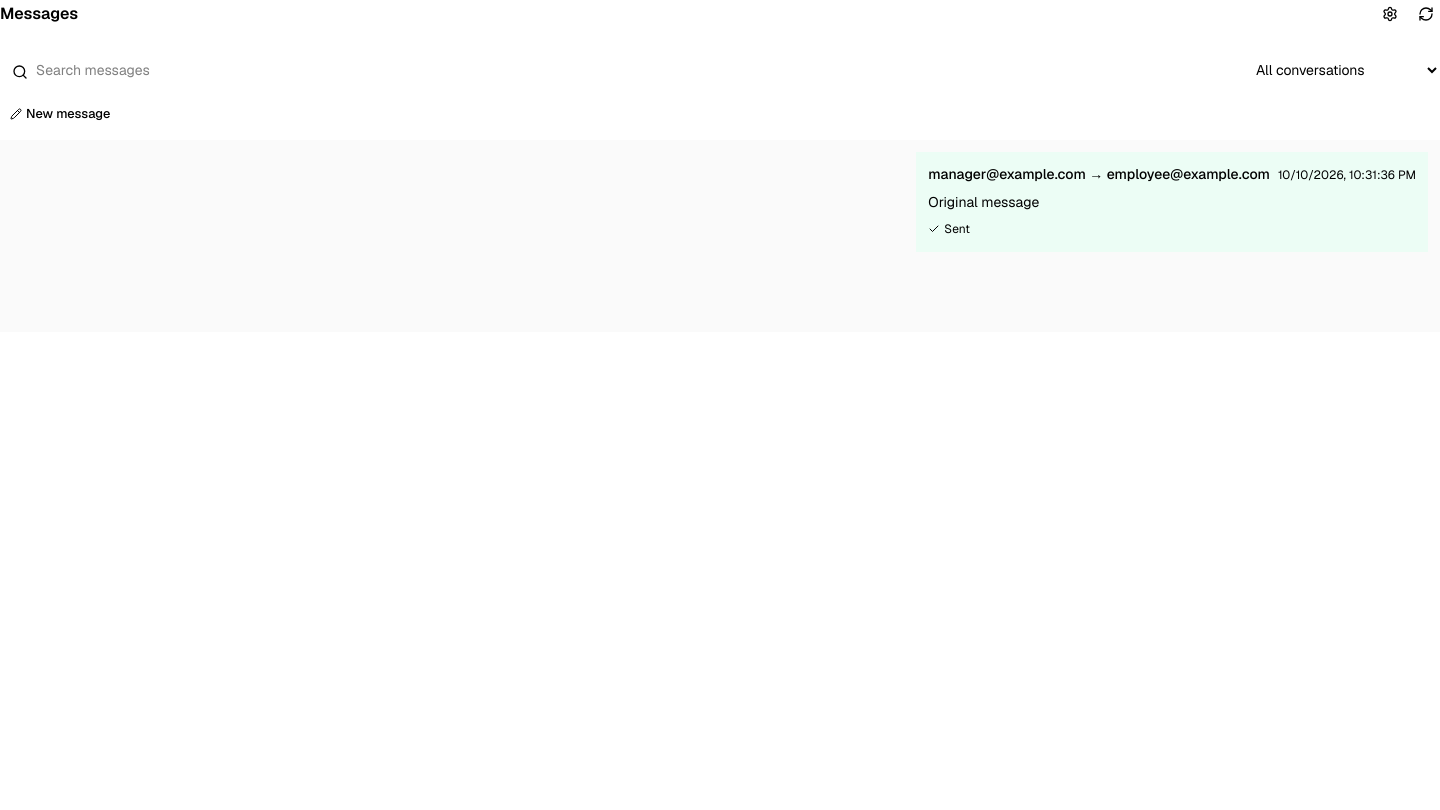
Test: keeps encryption controls out of the everyday inbox
Expected: the text "End-to-end encryption connected" is not shown
Click the button named "Message settings" at (1390, 14), box [1376,0,1404,28]
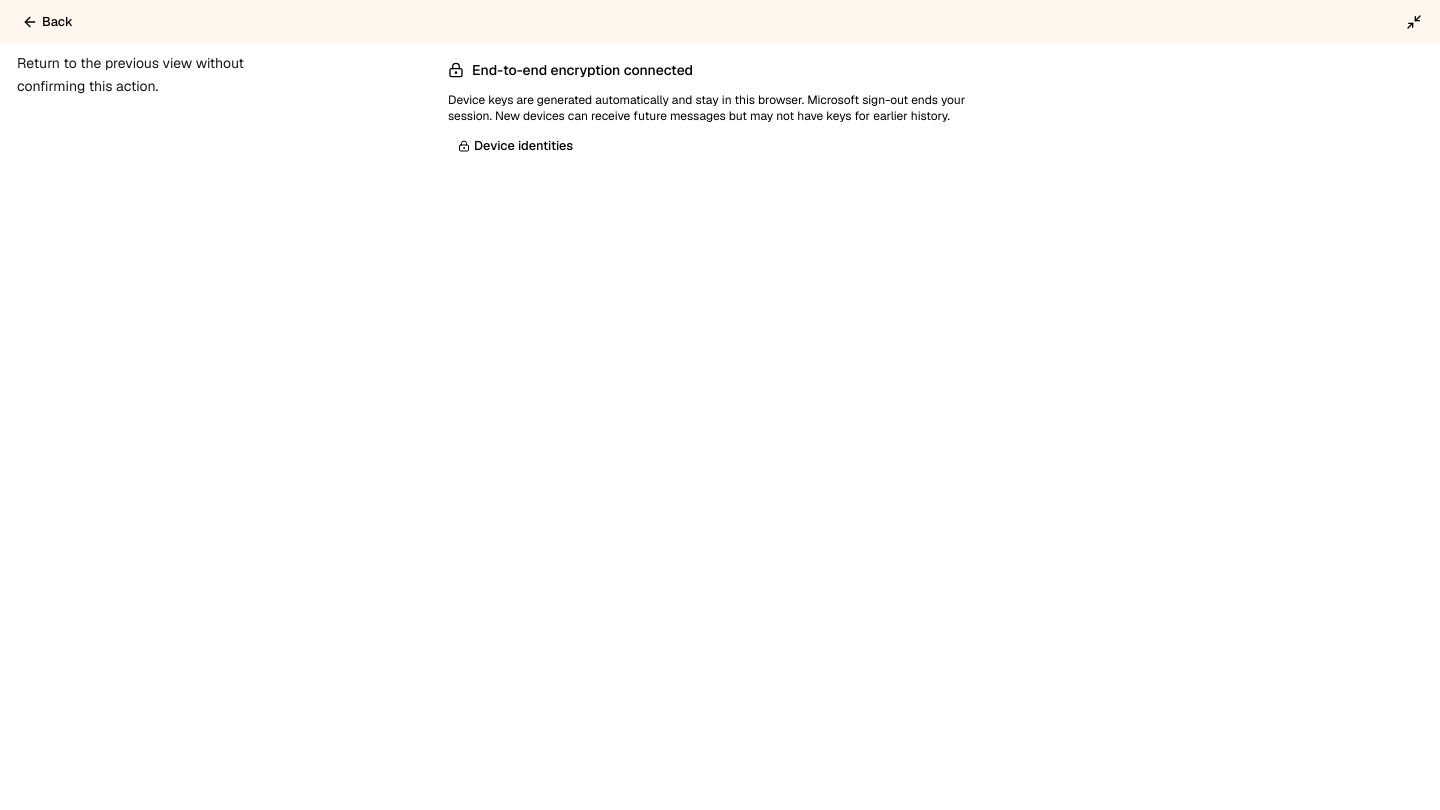
Now the dialog named "Message settings" is shown, box [0,0,1439,160]
Now the text "End-to-end encryption connected" is shown, box [448,60,693,80]
